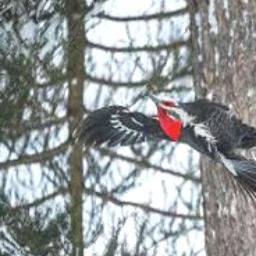Woodpecker: (72, 93, 256, 210)
